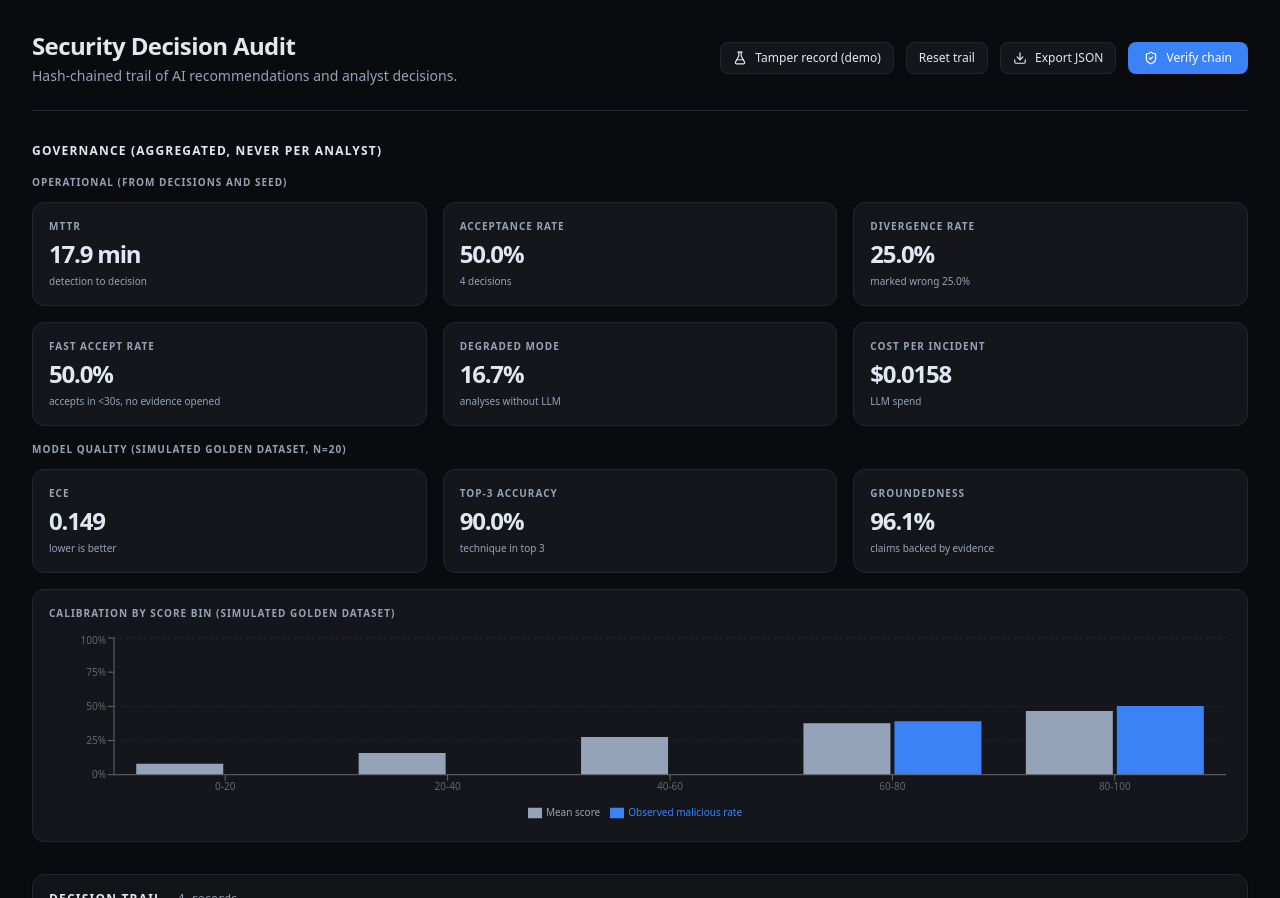
Scenario: audit integrity UI › verifies a clean chain and flags a tampered record
The image size is (1280, 898).
Click the button "Verify chain": (1188, 58) [1128, 42, 1248, 74]
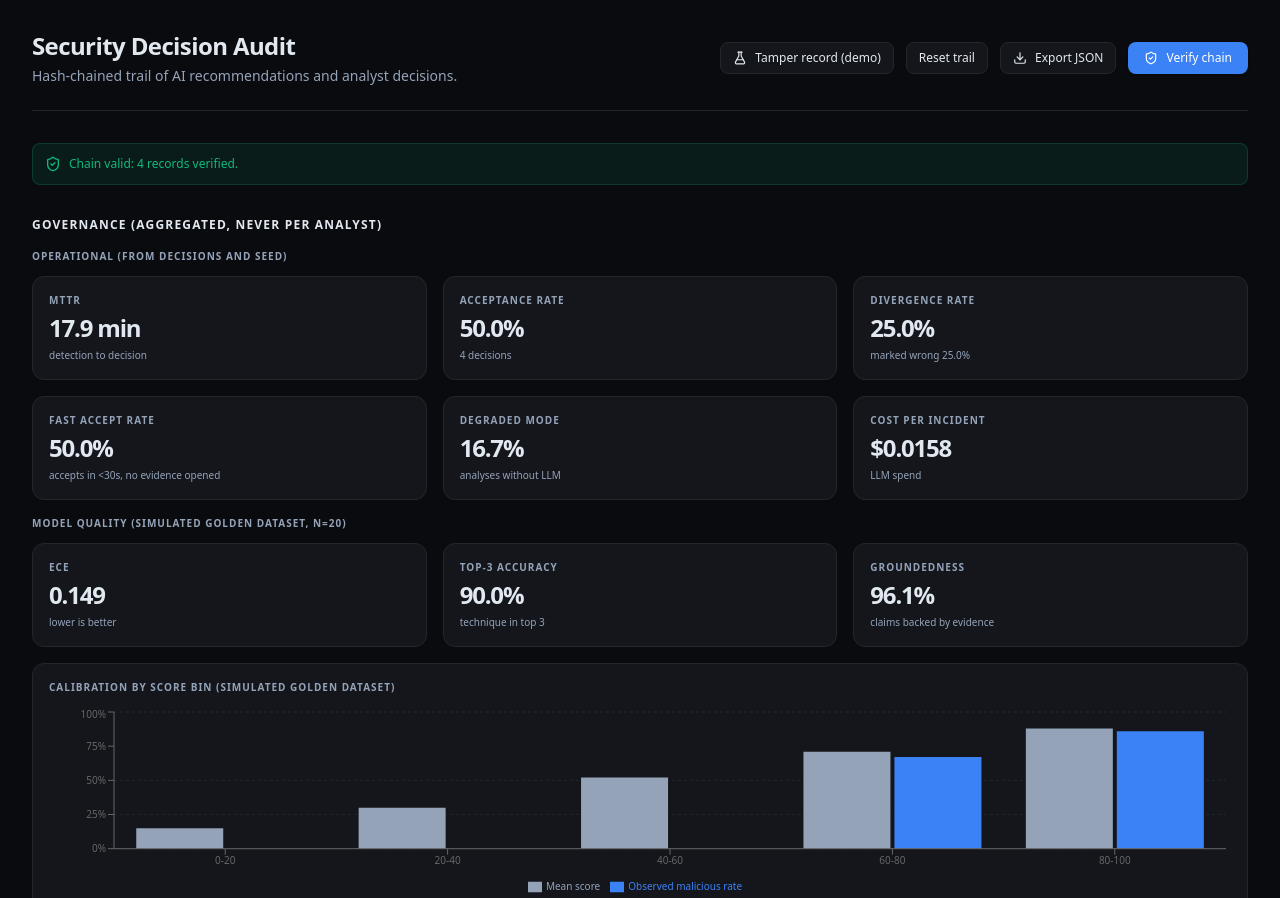
Expected: the message shows "Chain valid", [69, 155, 238, 172]
Click the button "Tamper record (demo)": (807, 58) [720, 42, 894, 74]
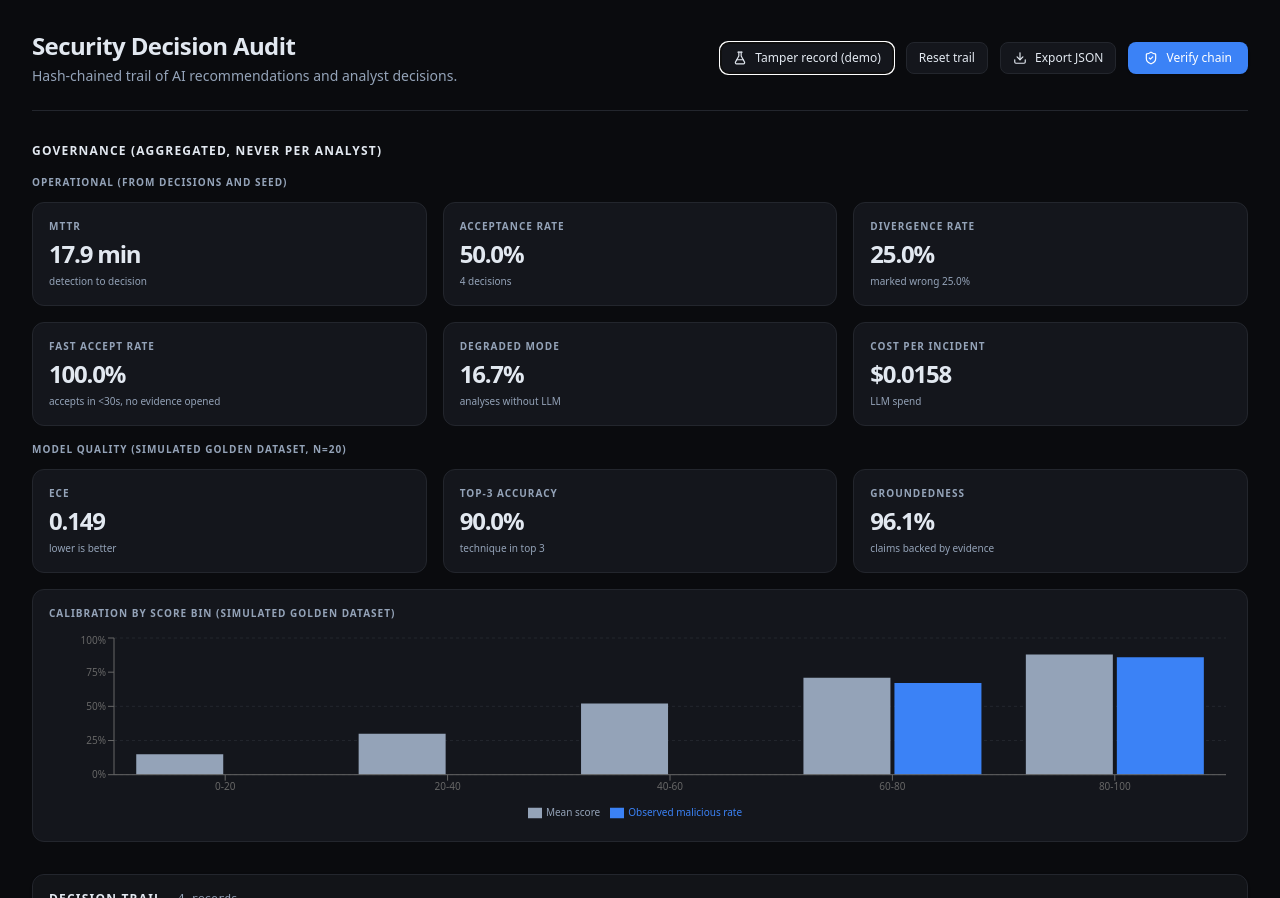
Click the button "Verify chain": (1188, 58) [1128, 42, 1248, 74]
(page scrolled)
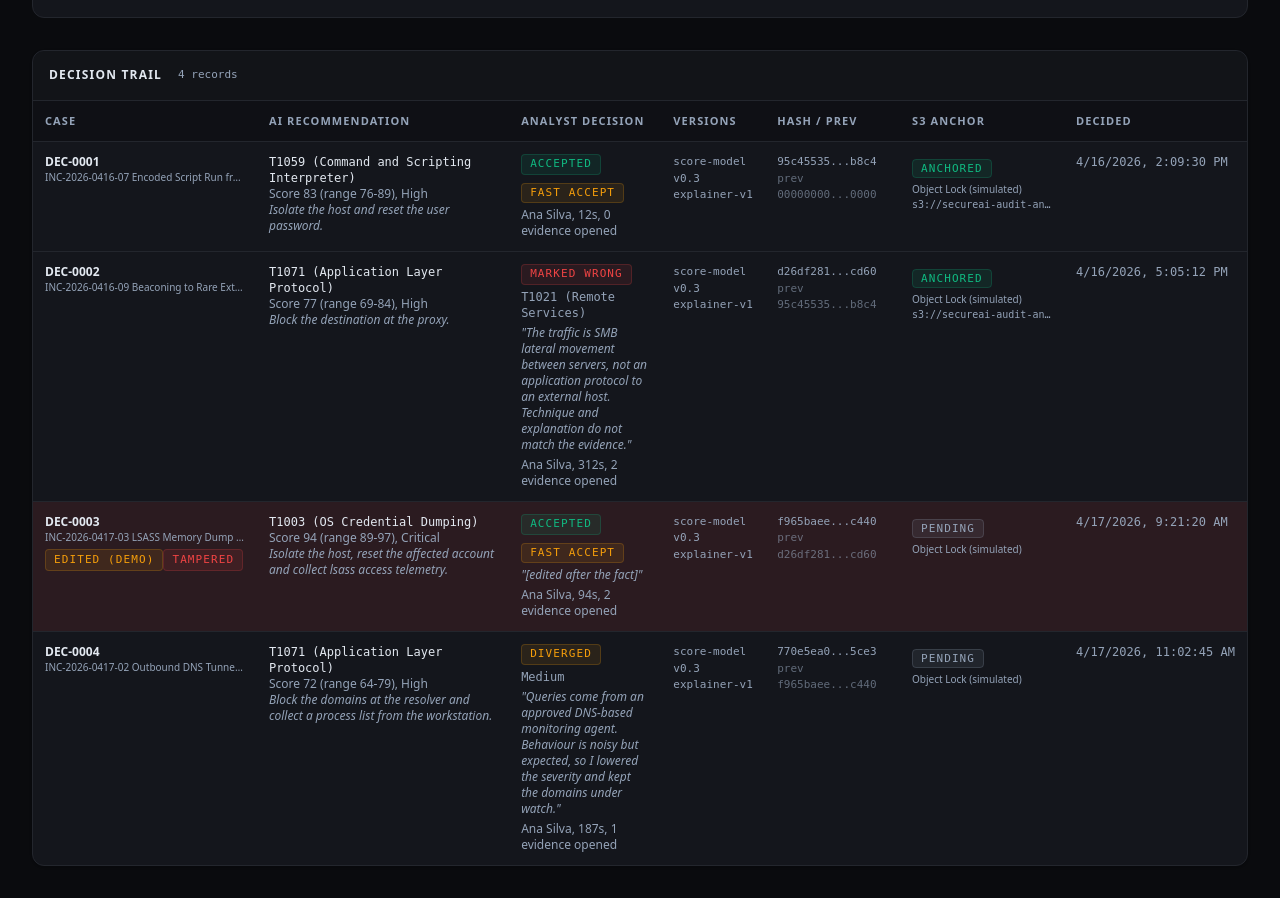
Expected: the text "tampered" is shown, [163, 549, 243, 572]
